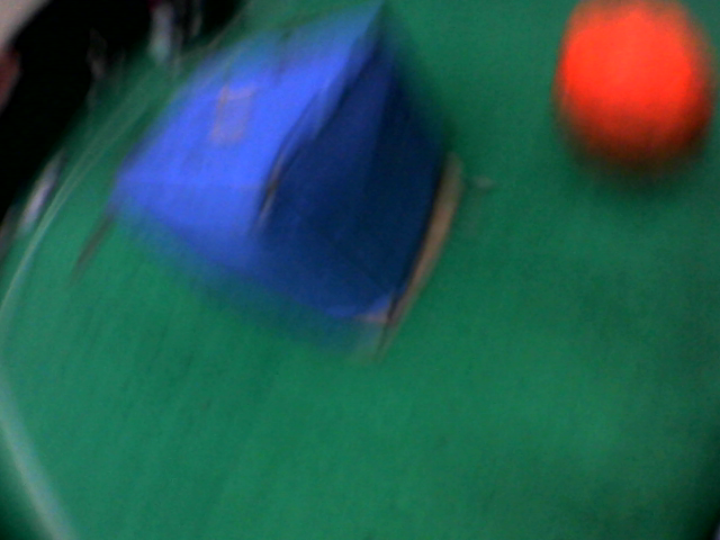bola: (534, 6, 716, 165)
